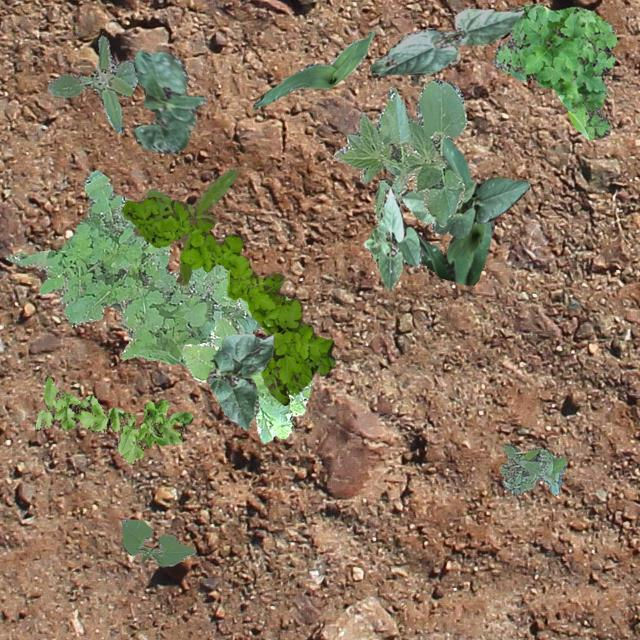crop: (332, 78, 466, 225), (402, 136, 494, 284), (369, 8, 524, 76), (252, 30, 374, 108), (399, 176, 528, 238), (132, 49, 205, 152), (206, 332, 274, 430), (362, 188, 420, 288), (120, 518, 194, 566)
weed: (5, 170, 262, 364), (120, 196, 334, 404), (178, 296, 310, 442), (490, 2, 616, 138), (35, 376, 192, 462), (132, 166, 238, 284), (46, 35, 138, 132), (498, 442, 566, 494)
